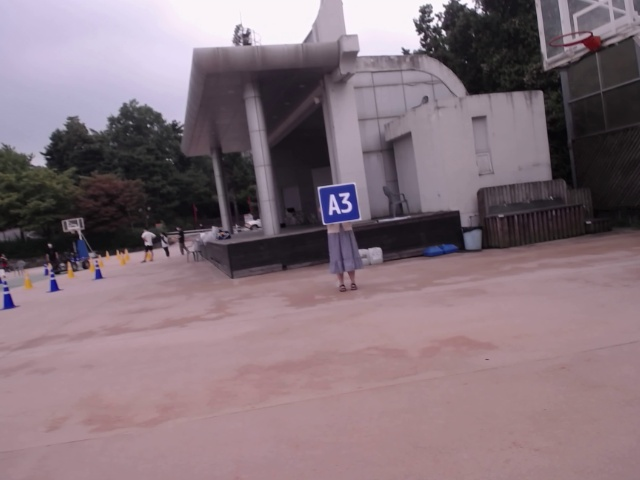delivery_a3: (319, 182, 361, 224)
